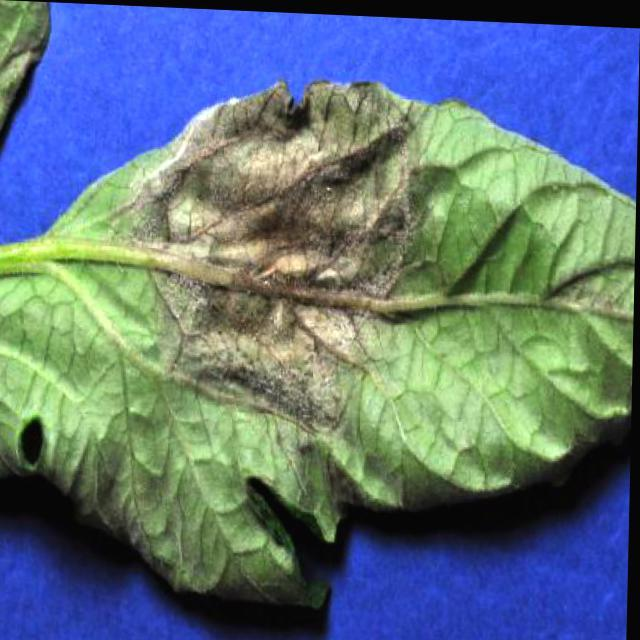Tomato mosaic virus leaf: (0, 76, 638, 639)
